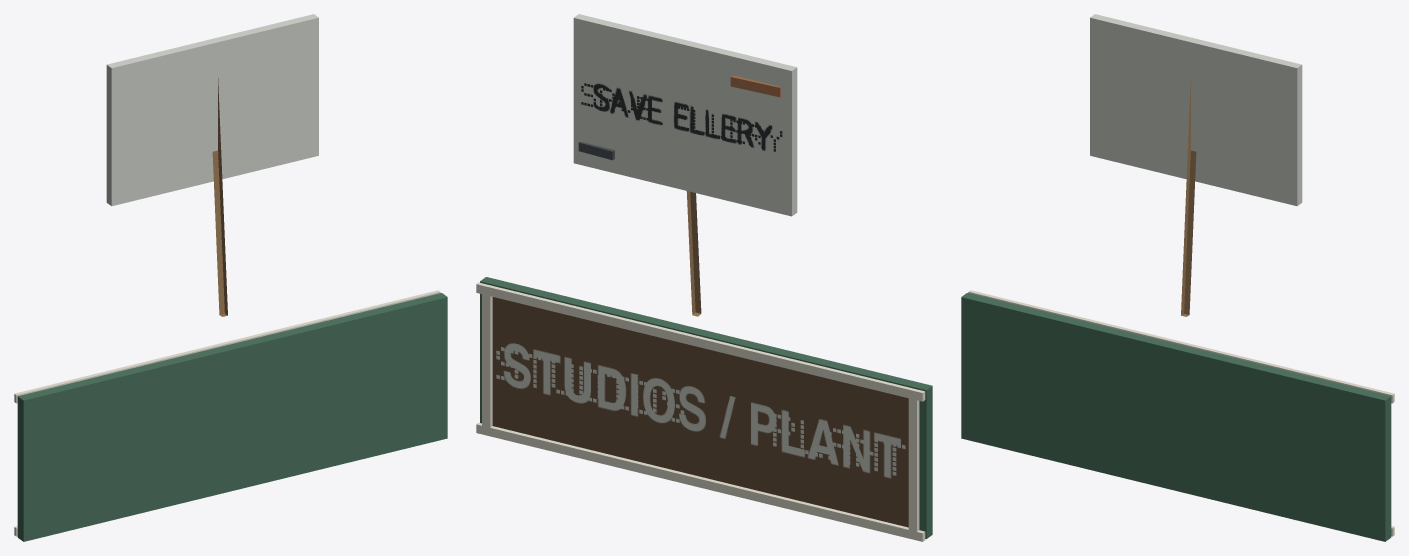
The model's file is signs-printed.glb.
3 renders of one model, left to right at view 1: azimuth 30°, elevation 25°; view 2: azimuth 150°, elevation 25°; view 3: azimuth 330°, elevation 25°, orthographic. The views are drawn at different scales.
Parts seen in each view (by area): view 1: lettering_study_services_baseline, lettering_study_placard_baseline; view 2: lettering_study_services_type_flat, lettering_study_placard_type_flat, lettering_study_services_baseline, lettering_study_placard_baseline; view 3: lettering_study_services_baseline, lettering_study_placard_baseline.
Part boxes in pixels (left/top/right/bottom): lettering_study_services_baseline: left=14, top=290, right=447, bottom=541; lettering_study_placard_baseline: left=106, top=14, right=318, bottom=316; lettering_study_services_type_flat: left=492, top=297, right=908, bottom=527; lettering_study_placard_type_flat: left=573, top=18, right=791, bottom=216; lettering_study_services_baseline: left=476, top=277, right=932, bottom=541; lettering_study_placard_baseline: left=574, top=14, right=797, bottom=316; lettering_study_services_baseline: left=961, top=290, right=1394, bottom=541; lettering_study_placard_baseline: left=1090, top=14, right=1302, bottom=316.
Size of the model in its own units: 2.7 by 2.63 by 0.3043.
Materials: 12 (4 with a texture image).
